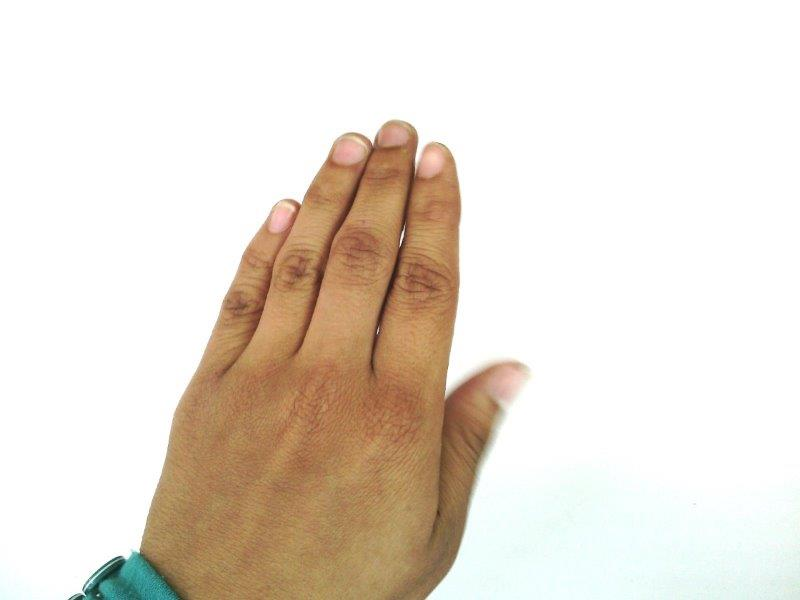hand: (156, 121, 528, 600)
